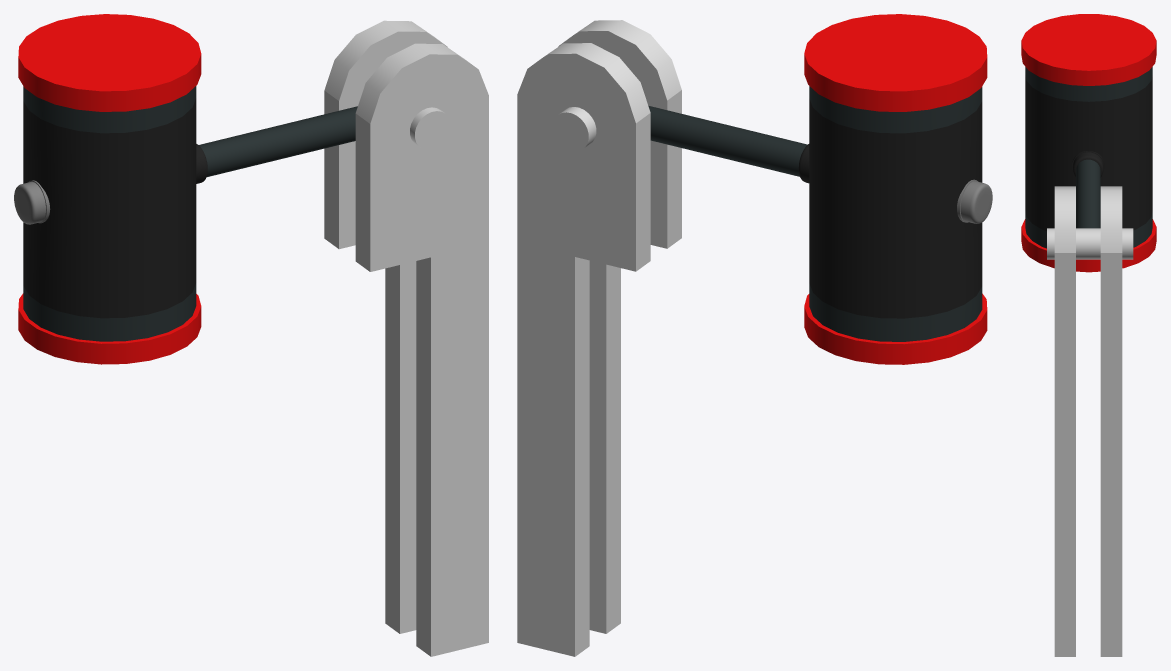
The model's file is hammer_cekic.fbx.
The picture shows the model from 3 angles, left to right: view 1: azimuth 30°, elevation 25°; view 2: azimuth 150°, elevation 25°; view 3: azimuth 270°, elevation 25°; orthographic projection. The views are drawn at different scales.
Visible parts, largest first — view 1: Cylinder001, Line001, Line002, Cylinder004; view 2: Cylinder001, Line002, Line001, Cylinder004; view 3: Cylinder001, Line002, Line001, Cylinder004.
Boxes of the visible parts, <box> form: Cylinder001: <box>14,14,357,364</box>; Line001: <box>355,43,488,656</box>; Line002: <box>324,20,447,633</box>; Cylinder004: <box>410,107,451,150</box>; Cylinder001: <box>648,14,992,364</box>; Line002: <box>517,43,650,656</box>; Line001: <box>558,20,681,633</box>; Cylinder004: <box>552,107,596,151</box>; Cylinder001: <box>1021,14,1156,272</box>; Line002: <box>1100,186,1122,656</box>; Line001: <box>1054,186,1075,656</box>; Cylinder004: <box>1047,228,1133,259</box>.
Size of the model in its own units: 175 by 249 by 62.54.
